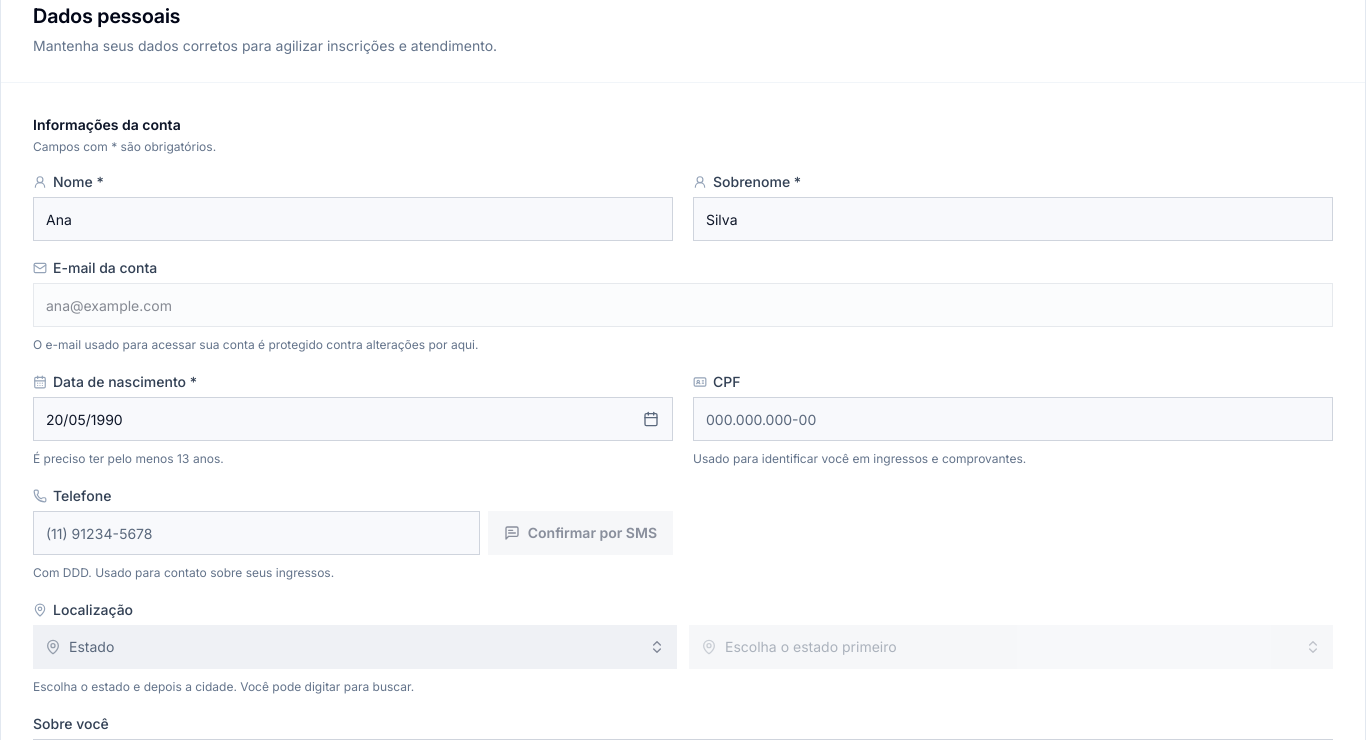
ProfileDetailsForm › refuses to save an invalid CPF
Type "52998224726" into the field labelled "CPF". click: point(1013, 419)
box: [693,397,1333,441]
(page scrolled)
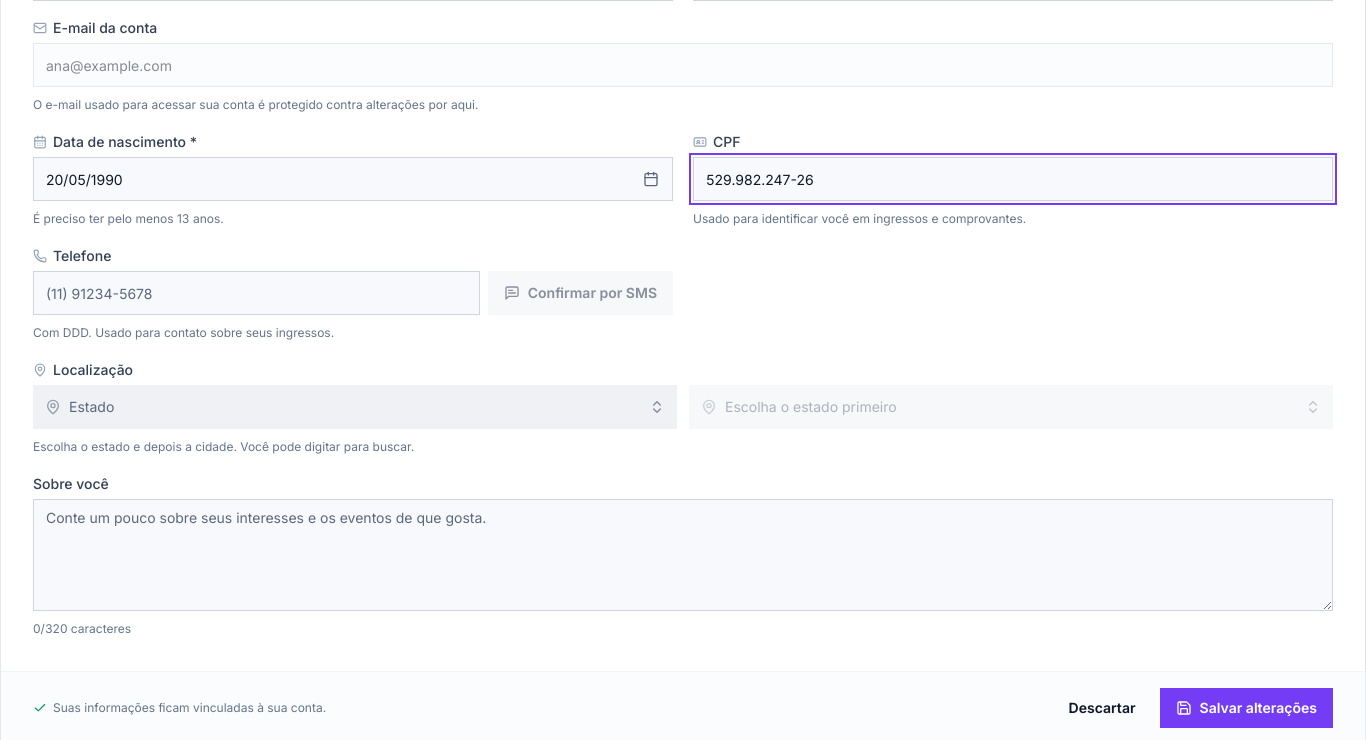
Click the 3rd button named "salvar alterações". click: point(1246, 708)
box: [1160,688,1333,728]
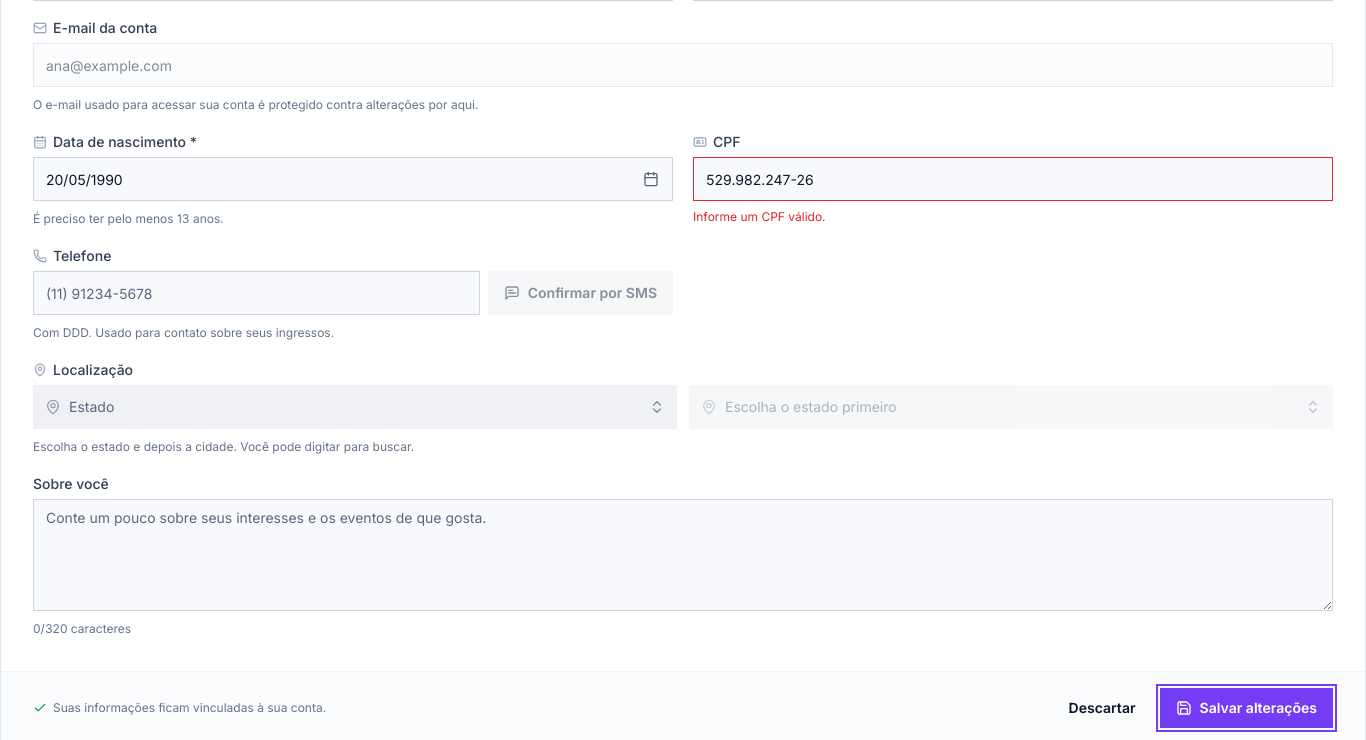
Expected: the text "Informe um CPF válido." is shown, [693,209,826,224]
